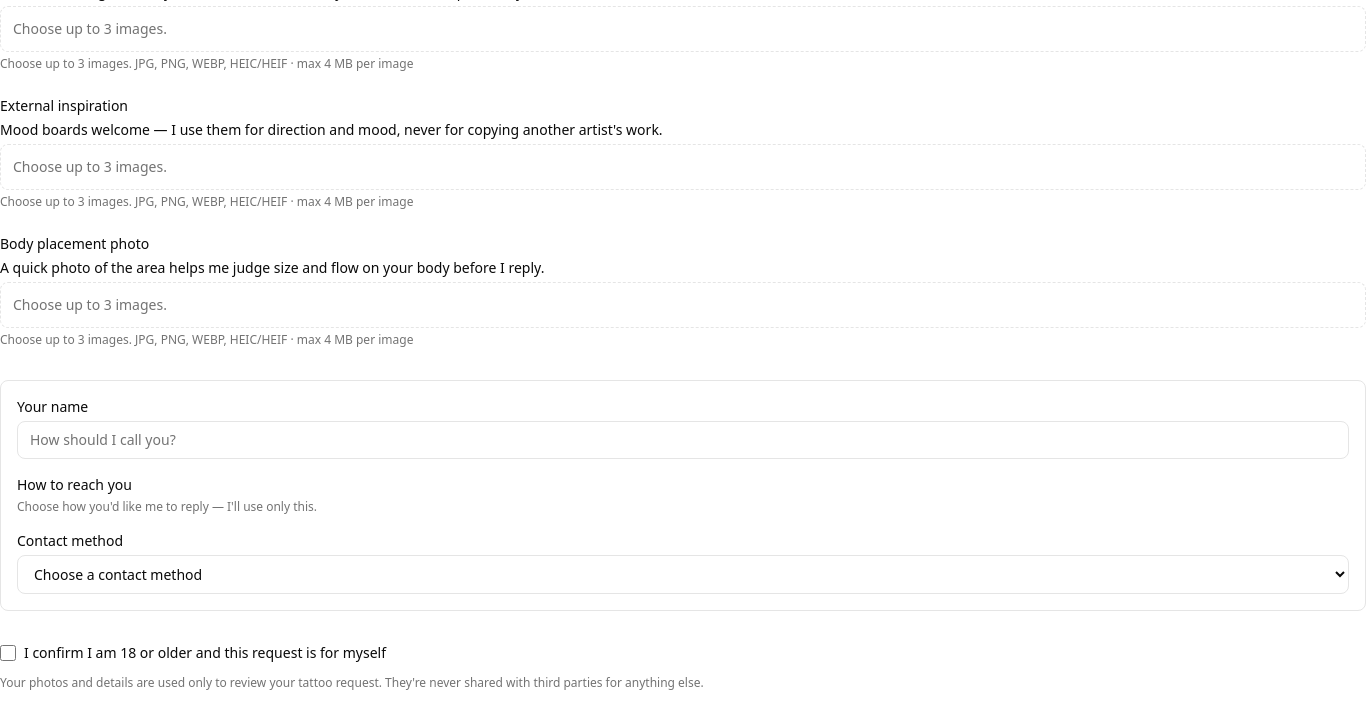
Test case: RequestForm – contact method select › reveals exactly one value field for email
The width and height of the screenshot is (1366, 722).
(page scrolled)
Select "Email" in the dropdown labelled "Contact method" at (683, 574), box [17, 555, 1349, 594]
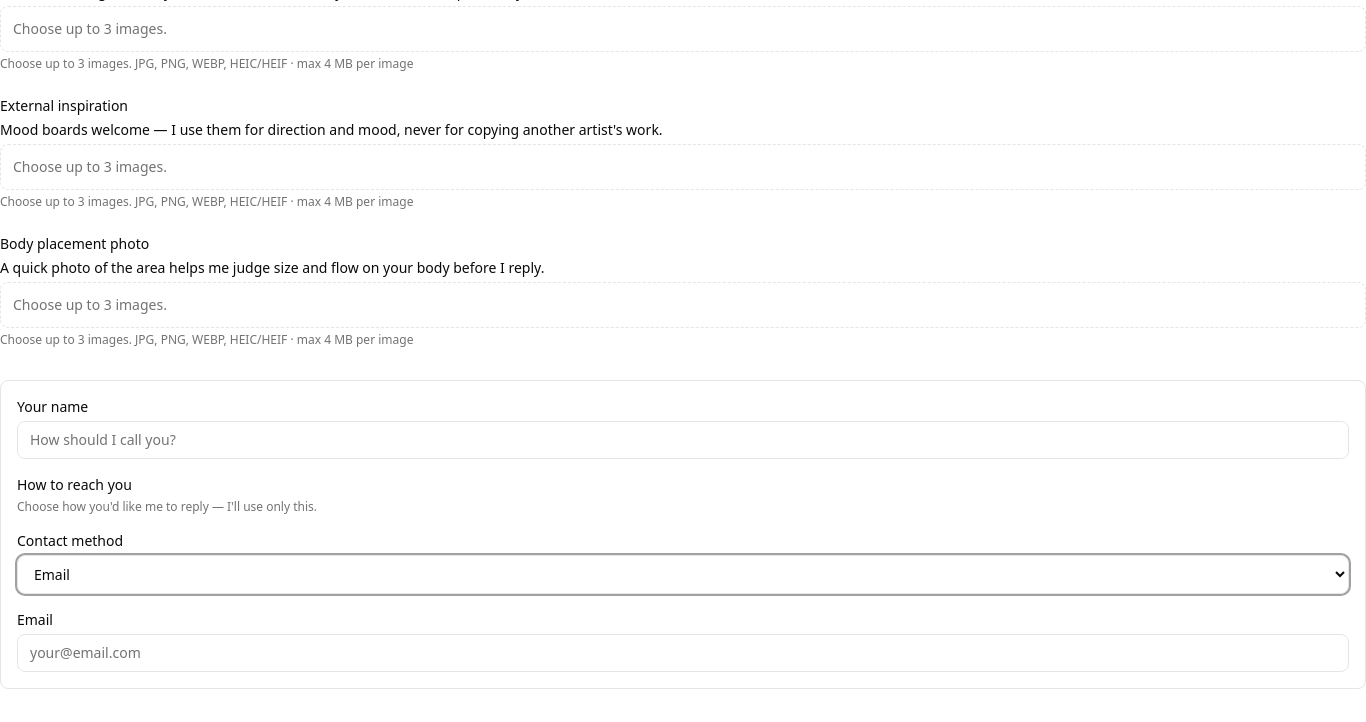
Expected: the field labelled "Email" is shown, [17, 634, 1349, 672]
